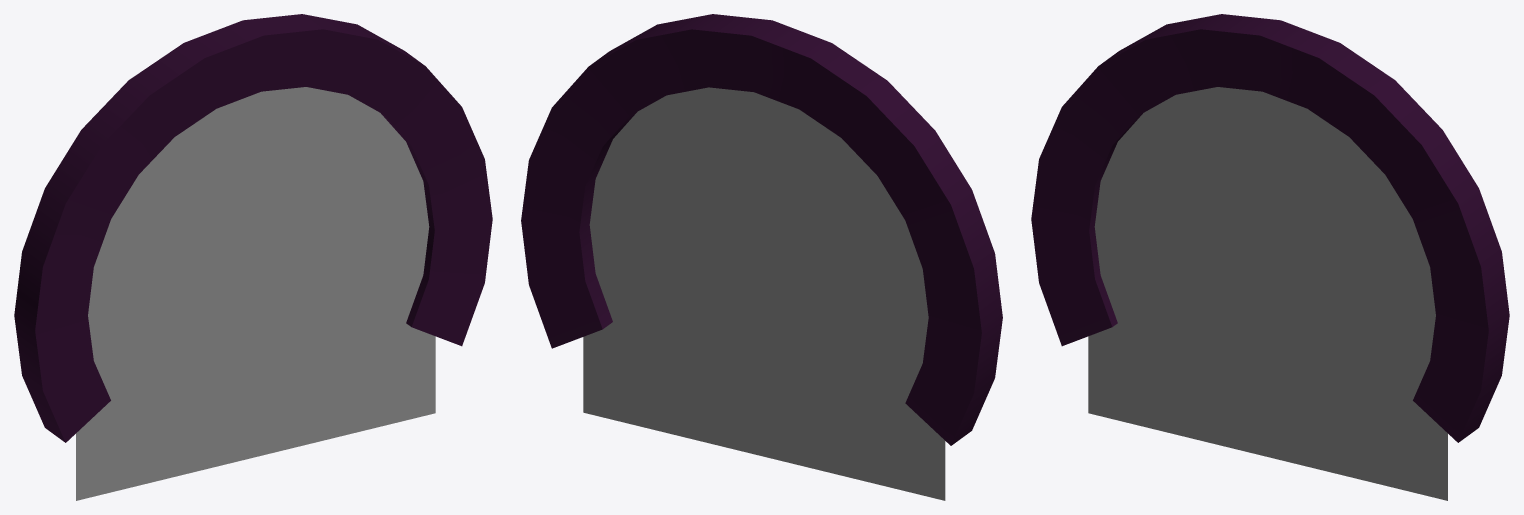
File: Spawn_Portal.FBX
3 renders of one model, left to right at view 1: azimuth 30°, elevation 25°; view 2: azimuth 150°, elevation 25°; view 3: azimuth 330°, elevation 25°, orthographic.
Visible parts, largest first — view 1: Portal; view 2: Portal; view 3: Portal.
Boxes of the visible parts, x1,y1,x2,y2 form: Portal: [14, 14, 492, 500]; Portal: [521, 14, 1002, 500]; Portal: [1031, 14, 1509, 500].
Bounding box in the file's own units: 882 × 788 × 69.7.
